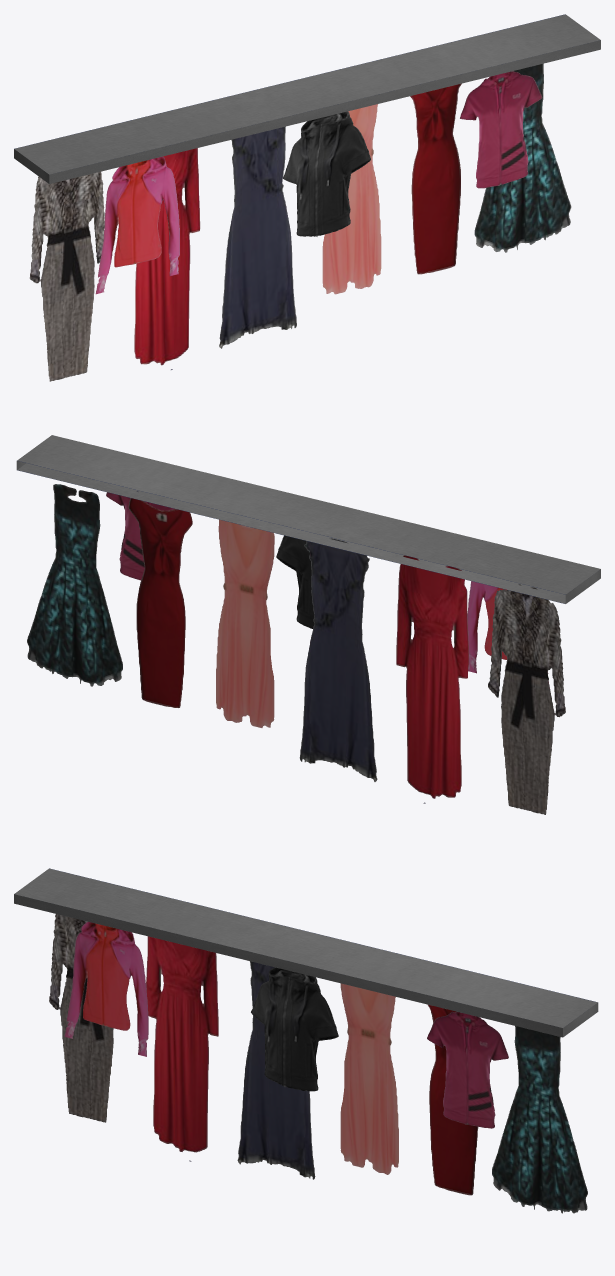
3 views of the same model, one above another, from view 1: azimuth 30°, elevation 25°; view 2: azimuth 150°, elevation 25°; view 3: azimuth 330°, elevation 25° (orthographic).
Visible parts, largest first — view 1: sd_05; view 2: sd_05; view 3: sd_05.
Part boxes in pixels (x1,y1,x2,y2): sd_05: (14,14,600,381); sd_05: (16,435,600,814); sd_05: (14,868,598,1213).
Bounding box in the file's own units: 18.95 × 2.06 × 8.11.
1 material, 1 textured.
